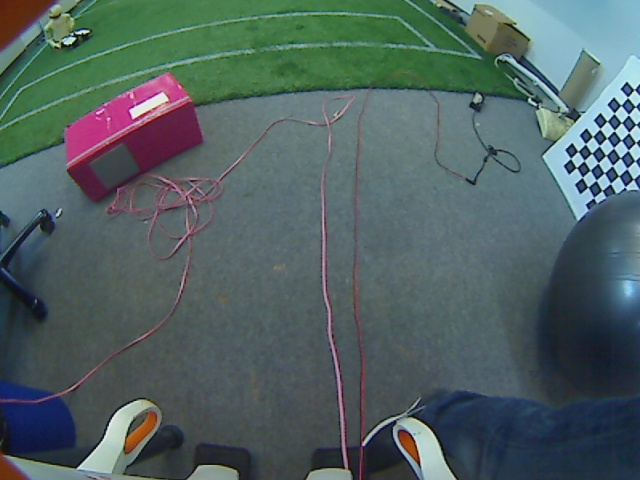robot: (34, 3, 93, 50)
